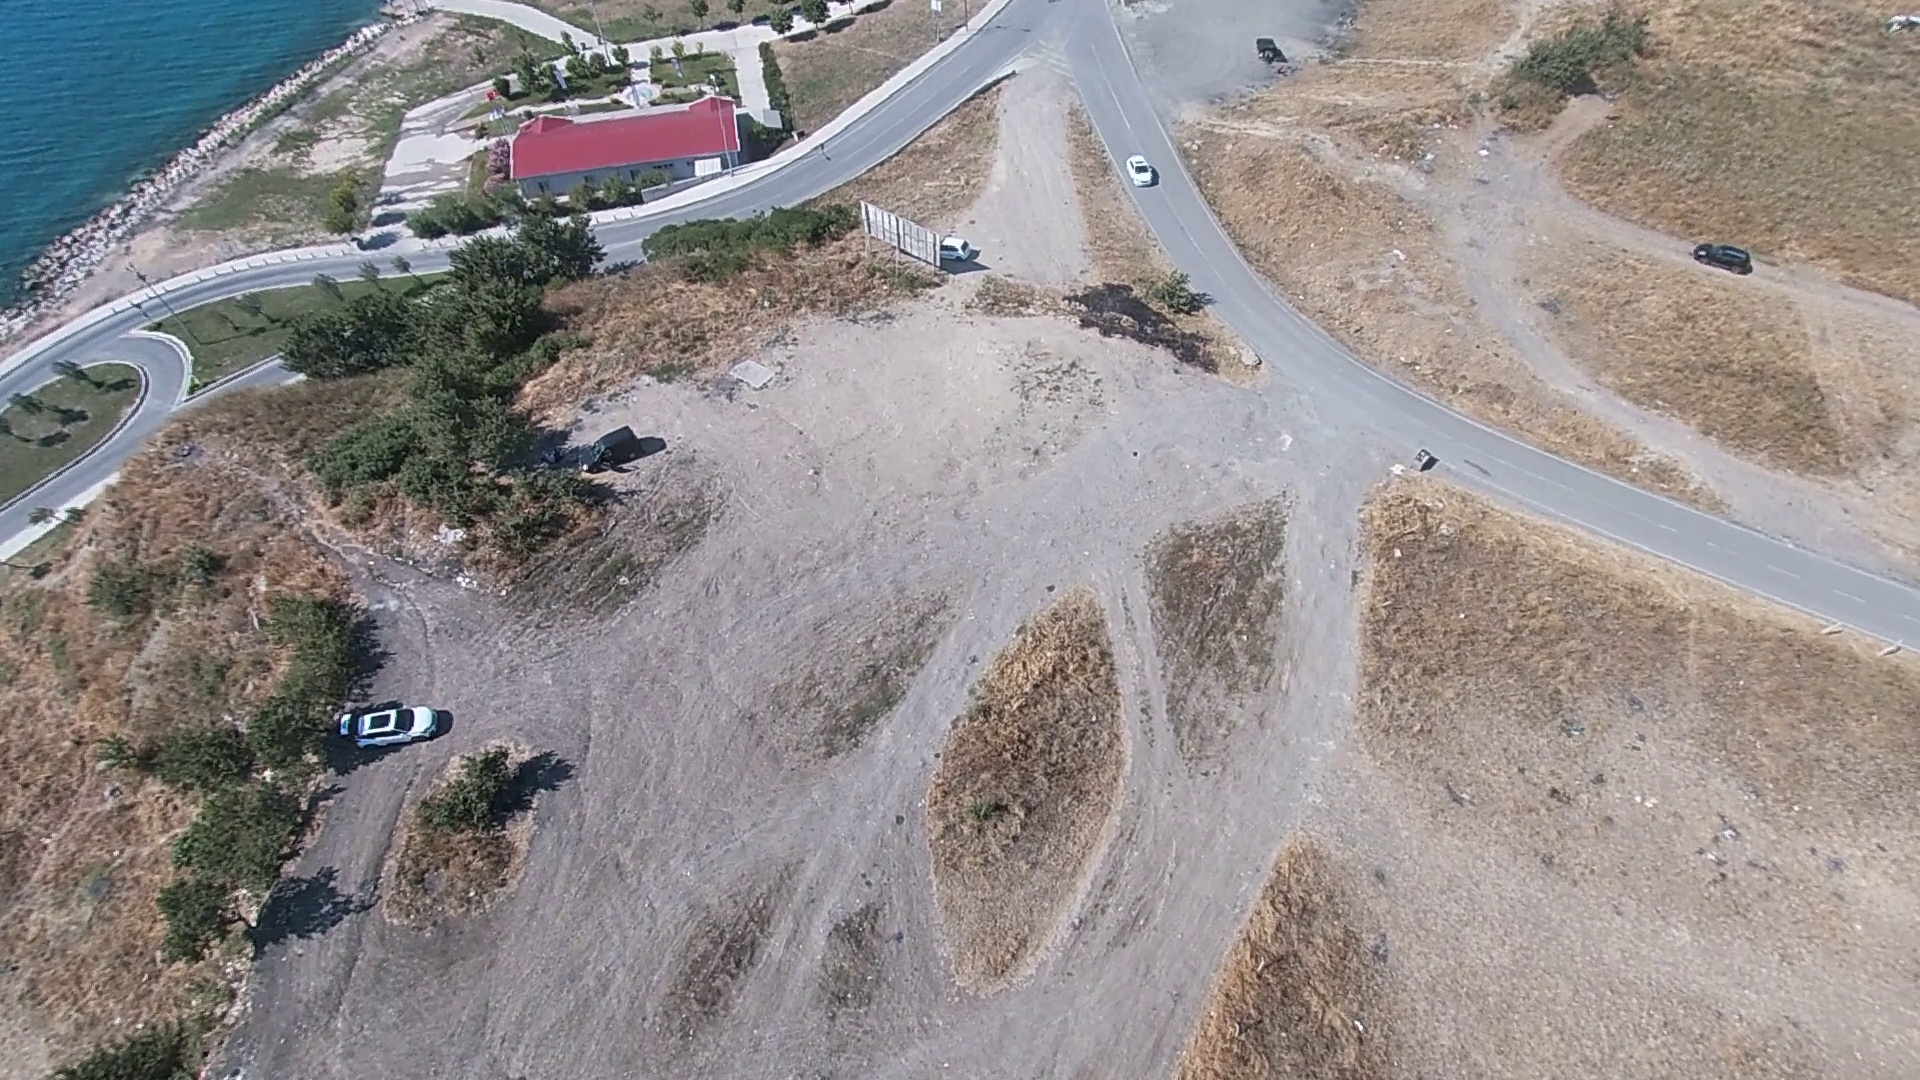araba: (340, 702, 451, 752), (578, 419, 654, 469), (931, 235, 982, 272), (1696, 243, 1751, 270), (1121, 152, 1155, 191)
